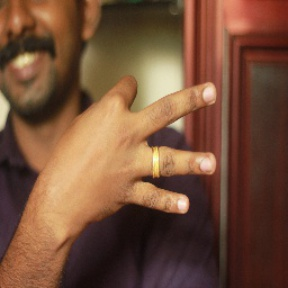K: (45, 76, 220, 221)
